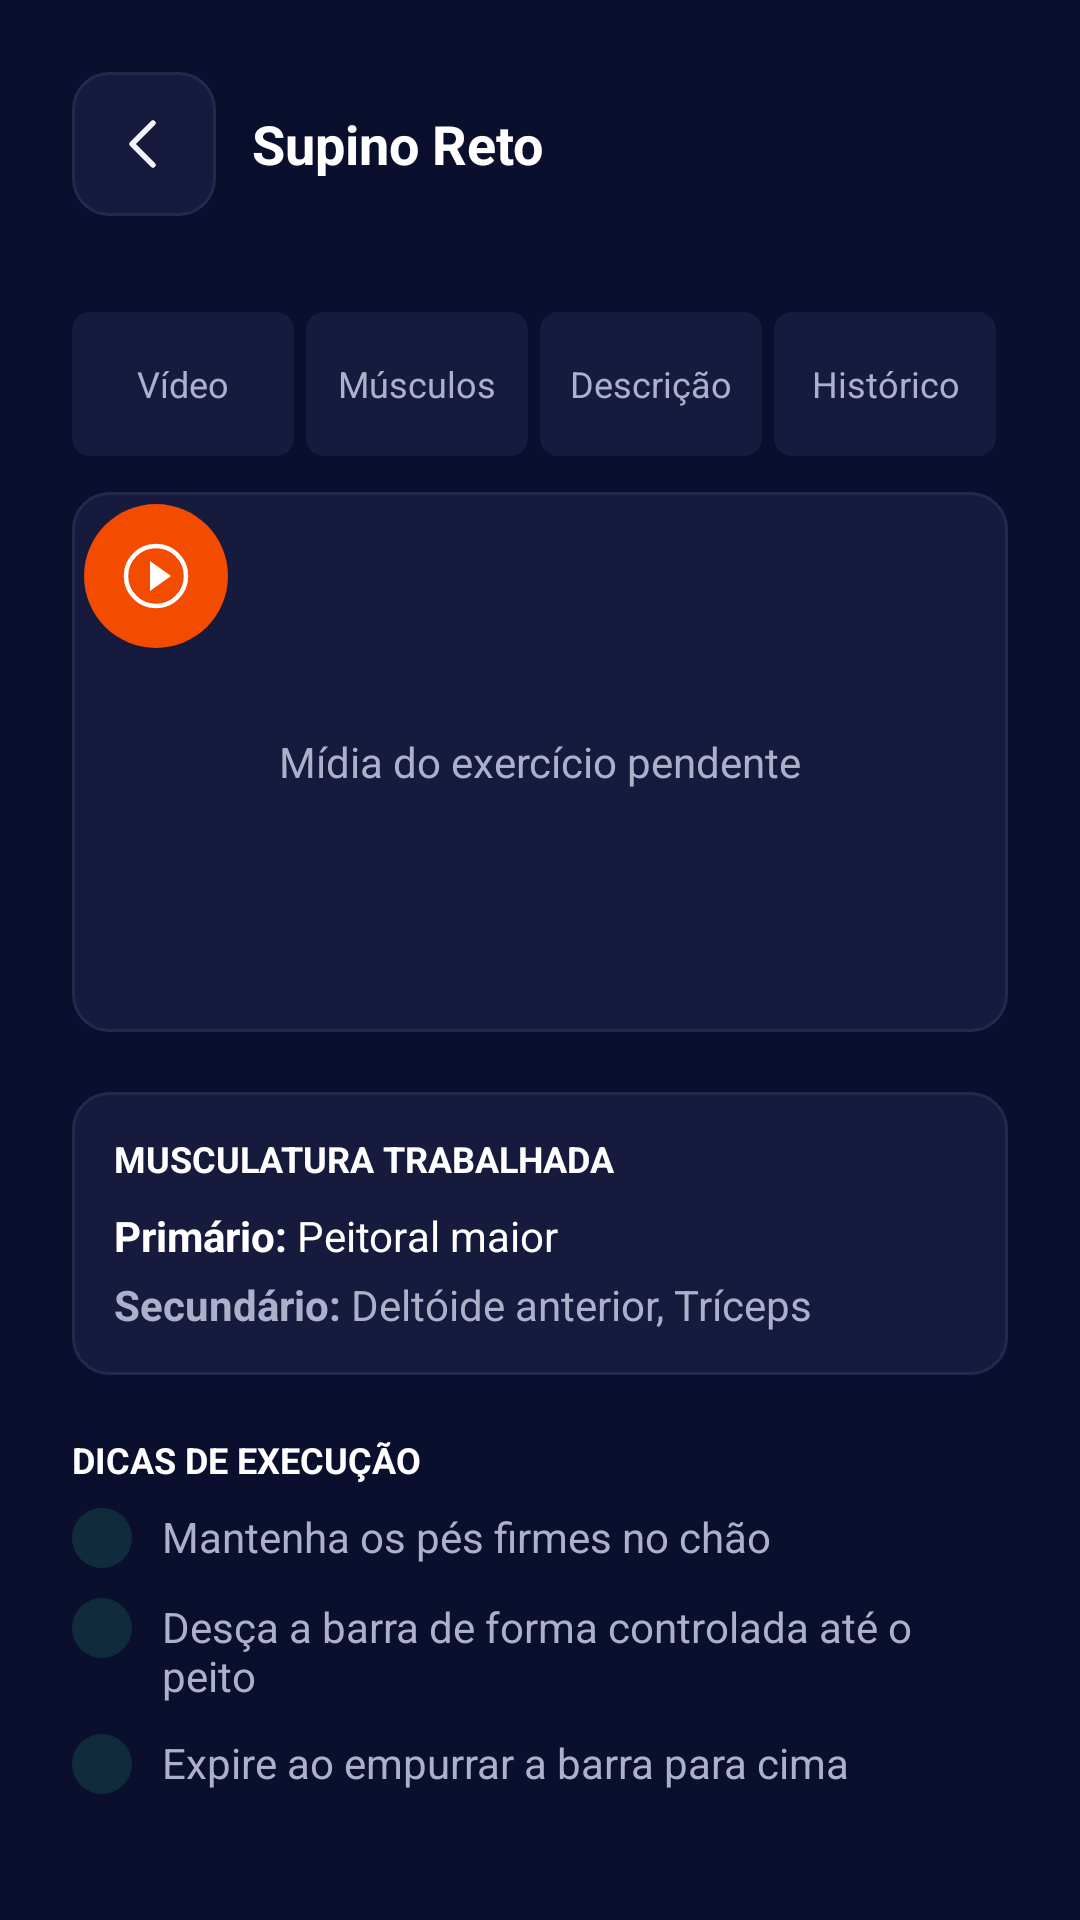

Locate icon controls on the screen. Image size 1080x1920, boxes as (x1, y1, x2, y2).
Voltar: (72, 72, 216, 216)
